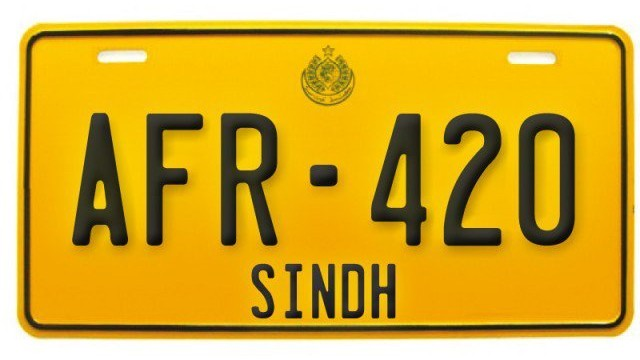Number Plate (Car): (17, 22, 632, 338)
